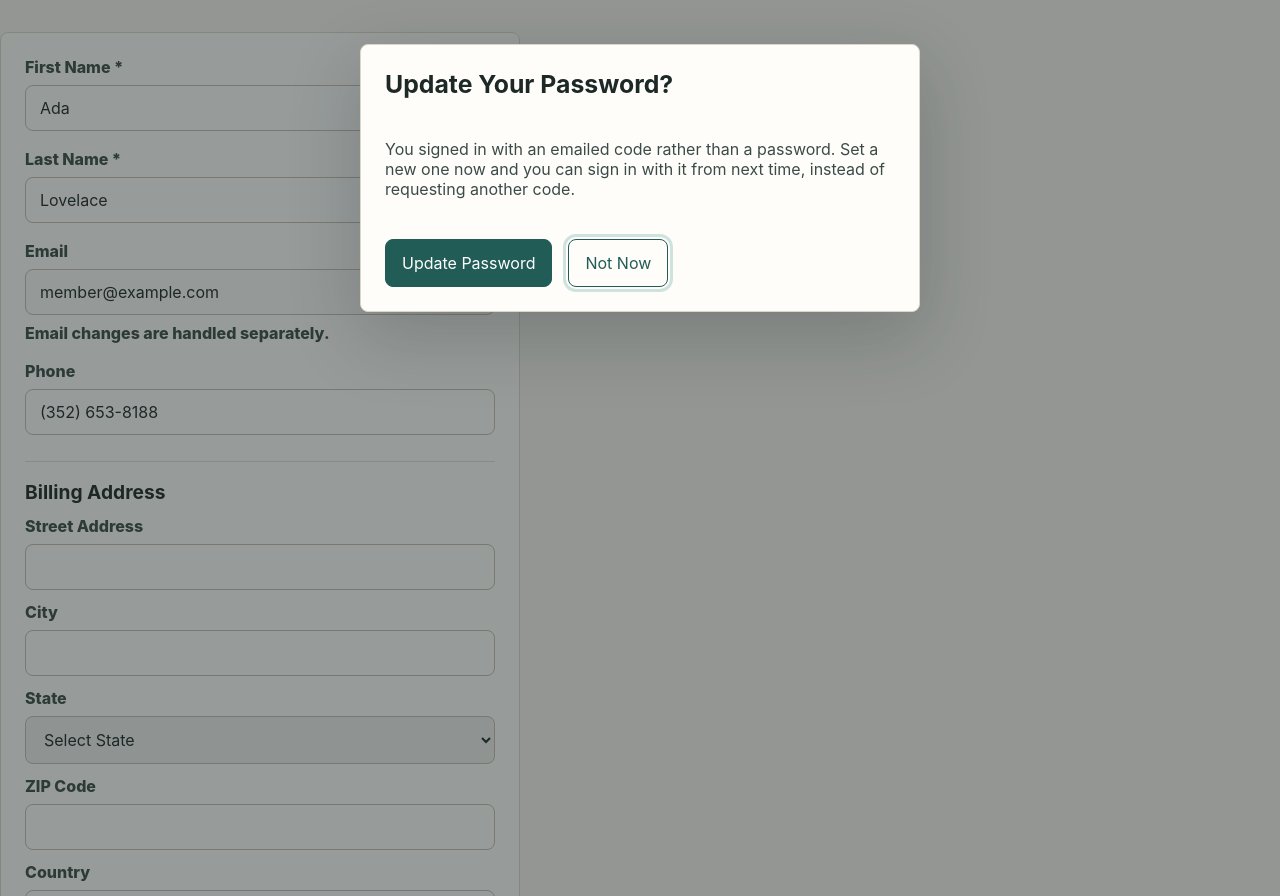
Test: arriving from account recovery › puts the member on the password field when they accept
Click the button "Update Password" at (469, 263), box [385,239,552,287]
(page scrolled)
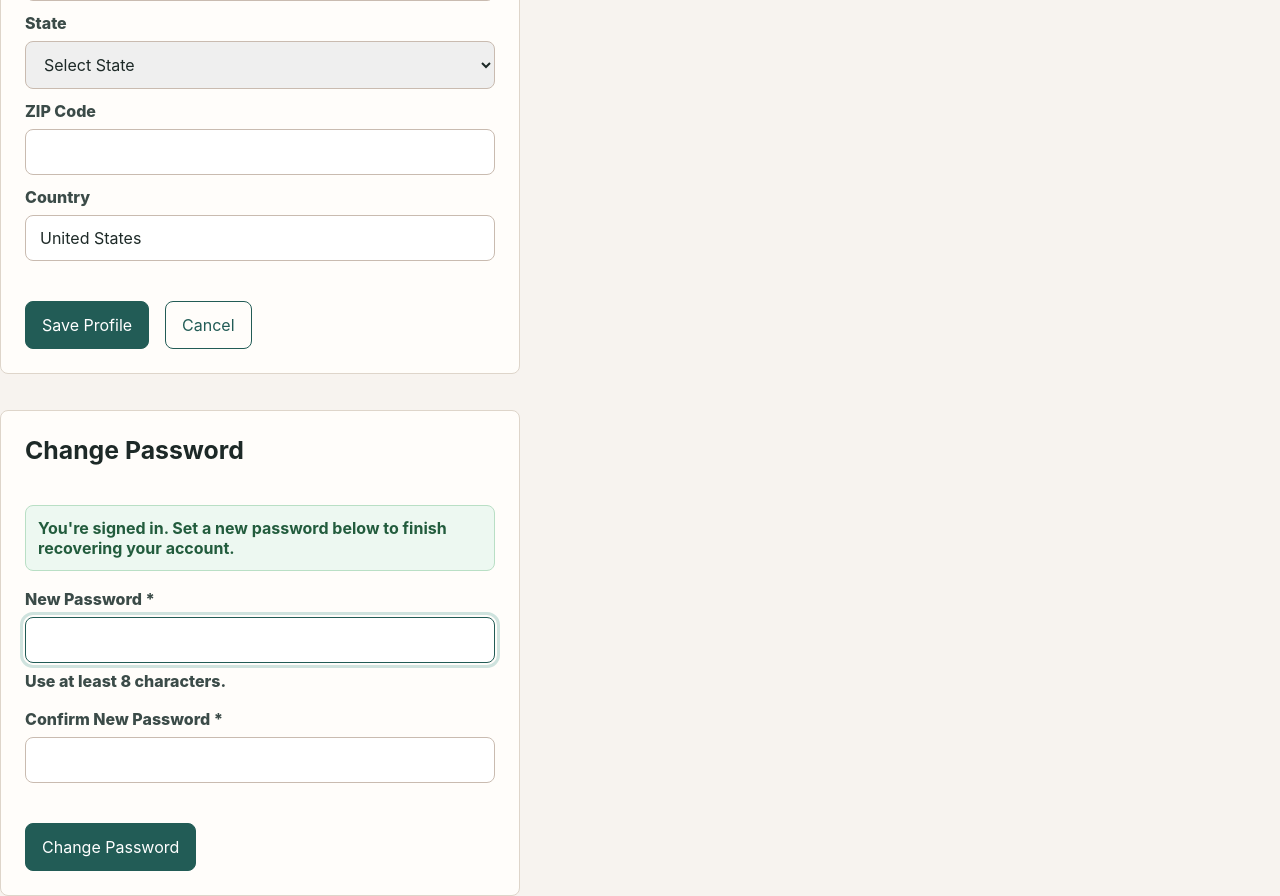
expect the heading "Update Your Password?" is gone: met
